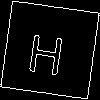H: (25, 25, 68, 76)
